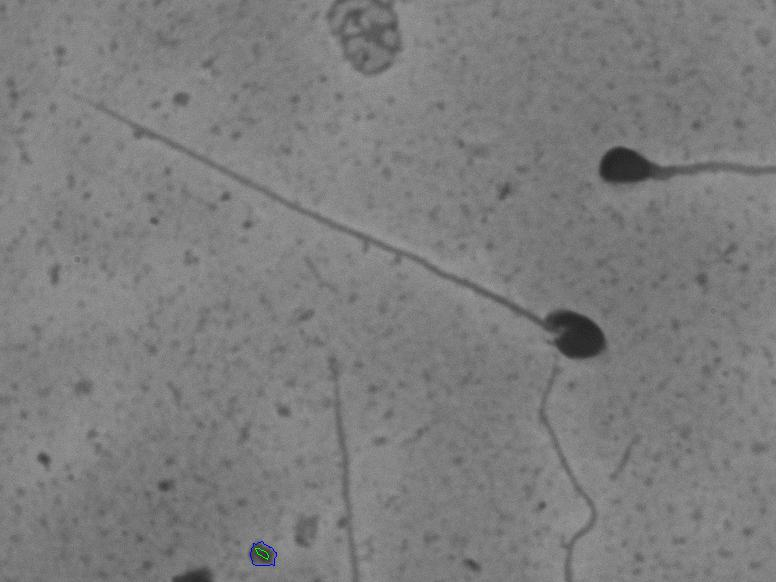Abnormal: (77, 203, 616, 389), (580, 119, 758, 226)
